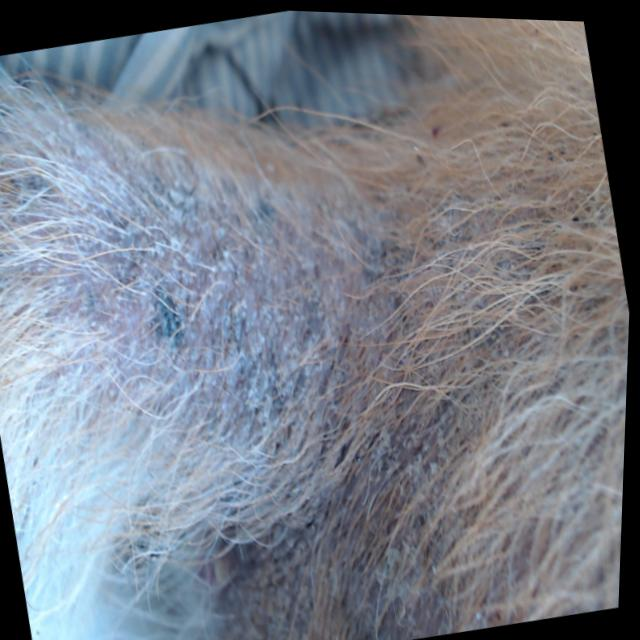demodicosis: (50, 114, 471, 606)
